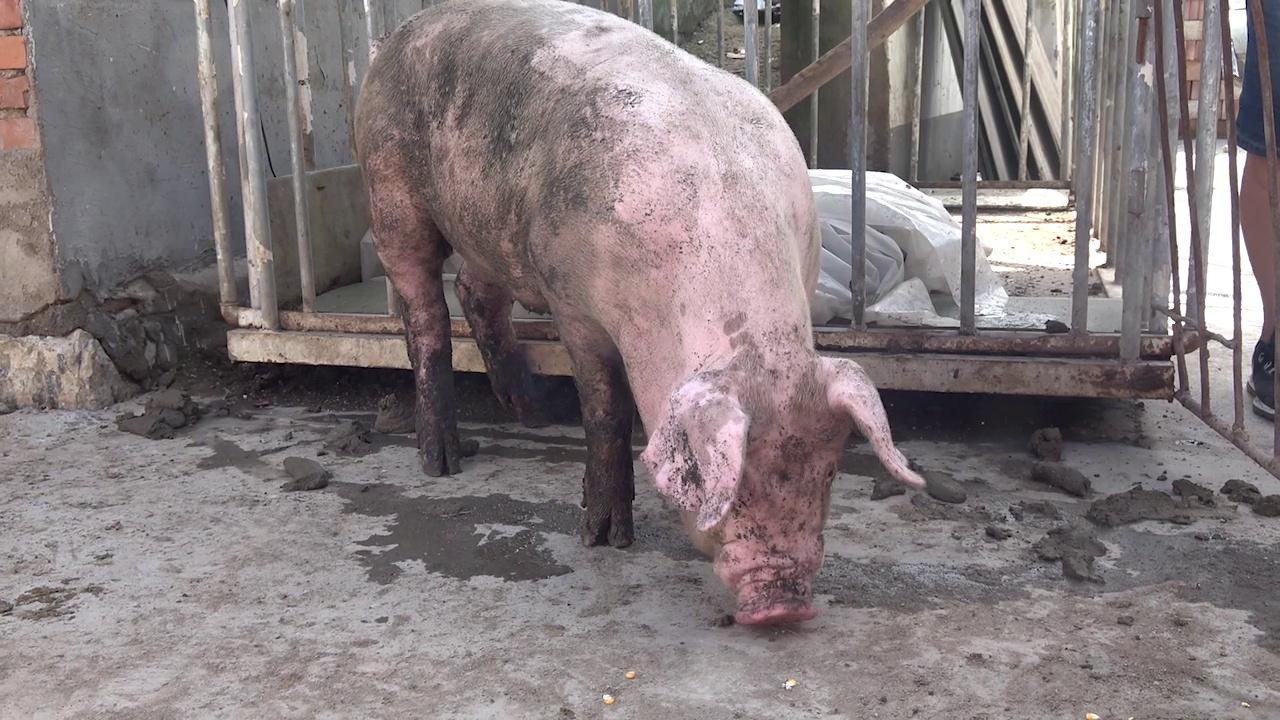Face: (626, 345, 941, 639)
